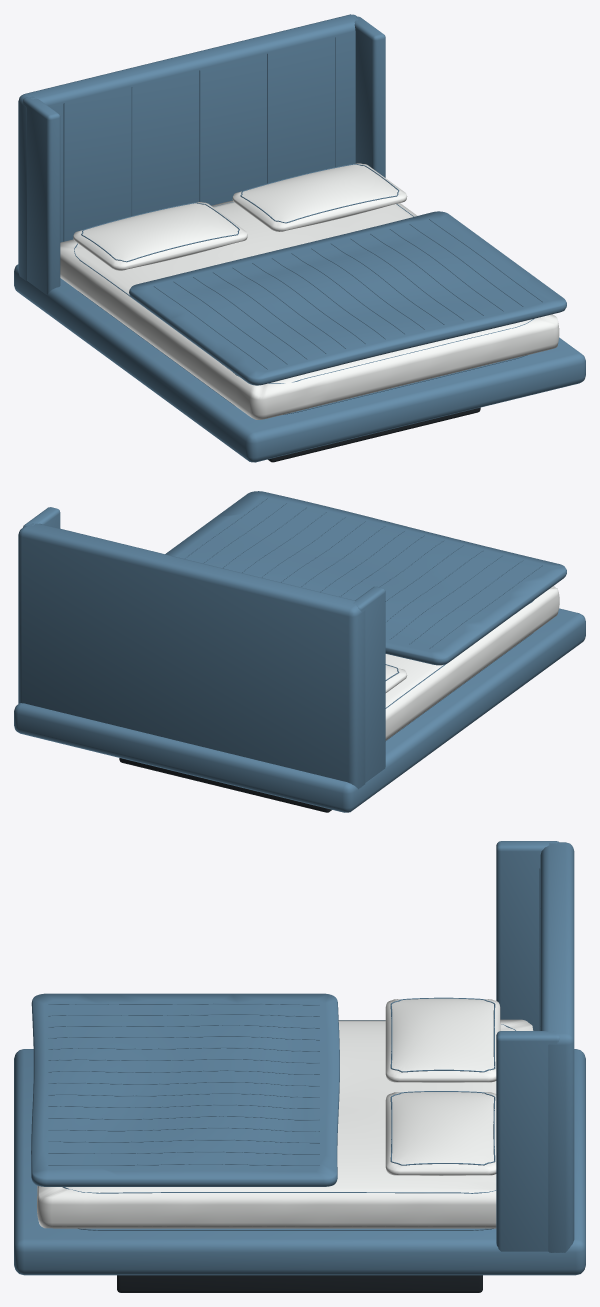
File: wingback-bed.glb
The picture shows the model from 3 angles, top to bottom: view 1: azimuth 30°, elevation 25°; view 2: azimuth 150°, elevation 25°; view 3: azimuth 270°, elevation 25°; orthographic projection. The views are drawn at different scales.
Visible parts, largest first — view 1: catalog_surface_RealismUV, catalog_surface_UVMap; view 2: catalog_surface_RealismUV, catalog_surface_UVMap; view 3: catalog_surface_RealismUV, catalog_surface_UVMap.
Boxes of the visible parts, left/top/right/bottom form: catalog_surface_RealismUV: left=14, top=14, right=585, bottom=462; catalog_surface_UVMap: left=268, top=407, right=480, bottom=462; catalog_surface_RealismUV: left=14, top=491, right=585, bottom=812; catalog_surface_UVMap: left=119, top=758, right=331, bottom=812; catalog_surface_RealismUV: left=14, top=841, right=585, bottom=1275; catalog_surface_UVMap: left=117, top=1275, right=482, bottom=1292.
Size of the model in its own units: 1.8 by 1.25 by 2.2.
